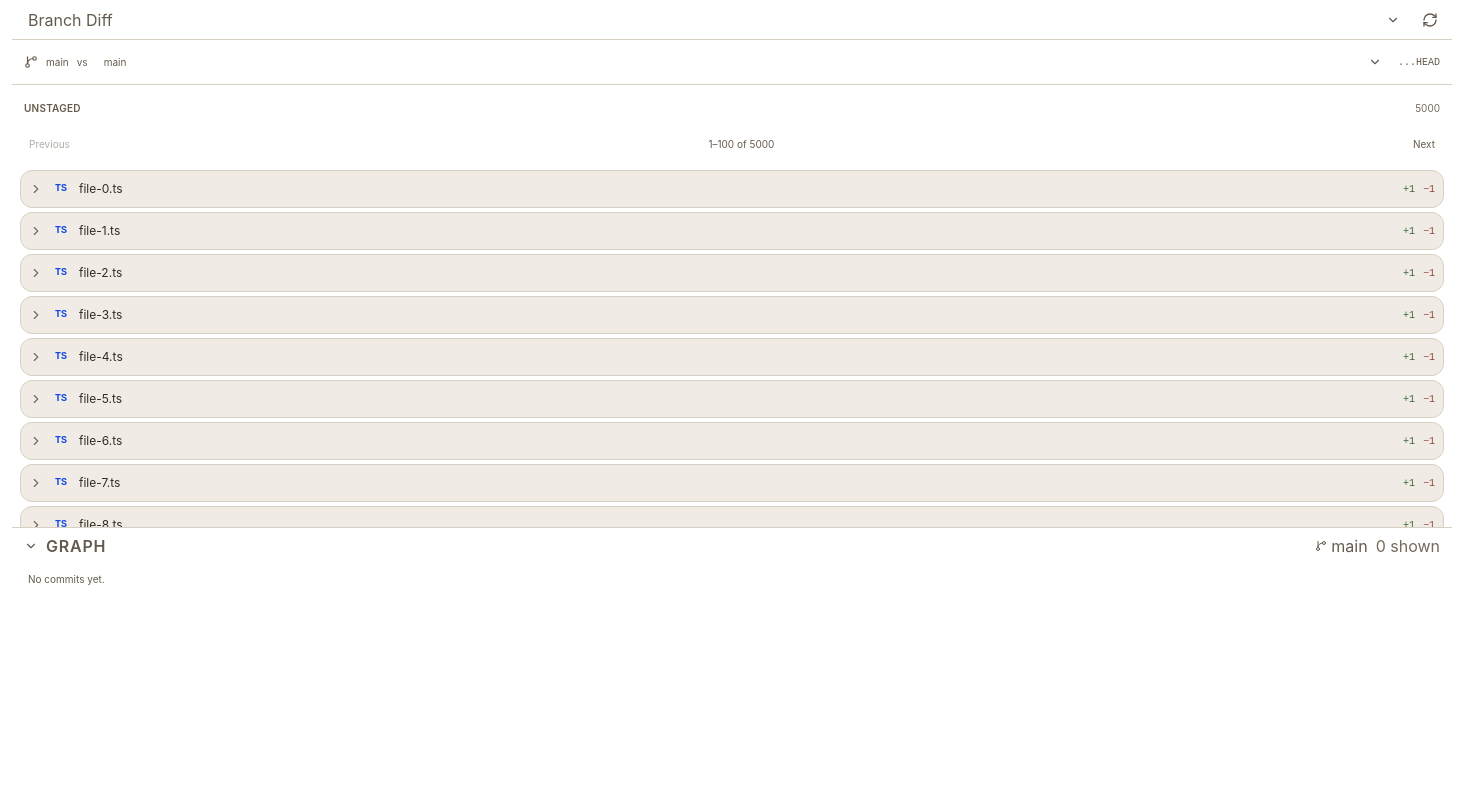
bounds a 5000-file list and lets files on later pages open
expect the text "file-0.ts" is shown: met, box [79,181,123,196]
expect the text "file-100.ts" is not shown: met
Step 1. Click the button "Next" → click(1424, 144), box [1404,130,1444,158]
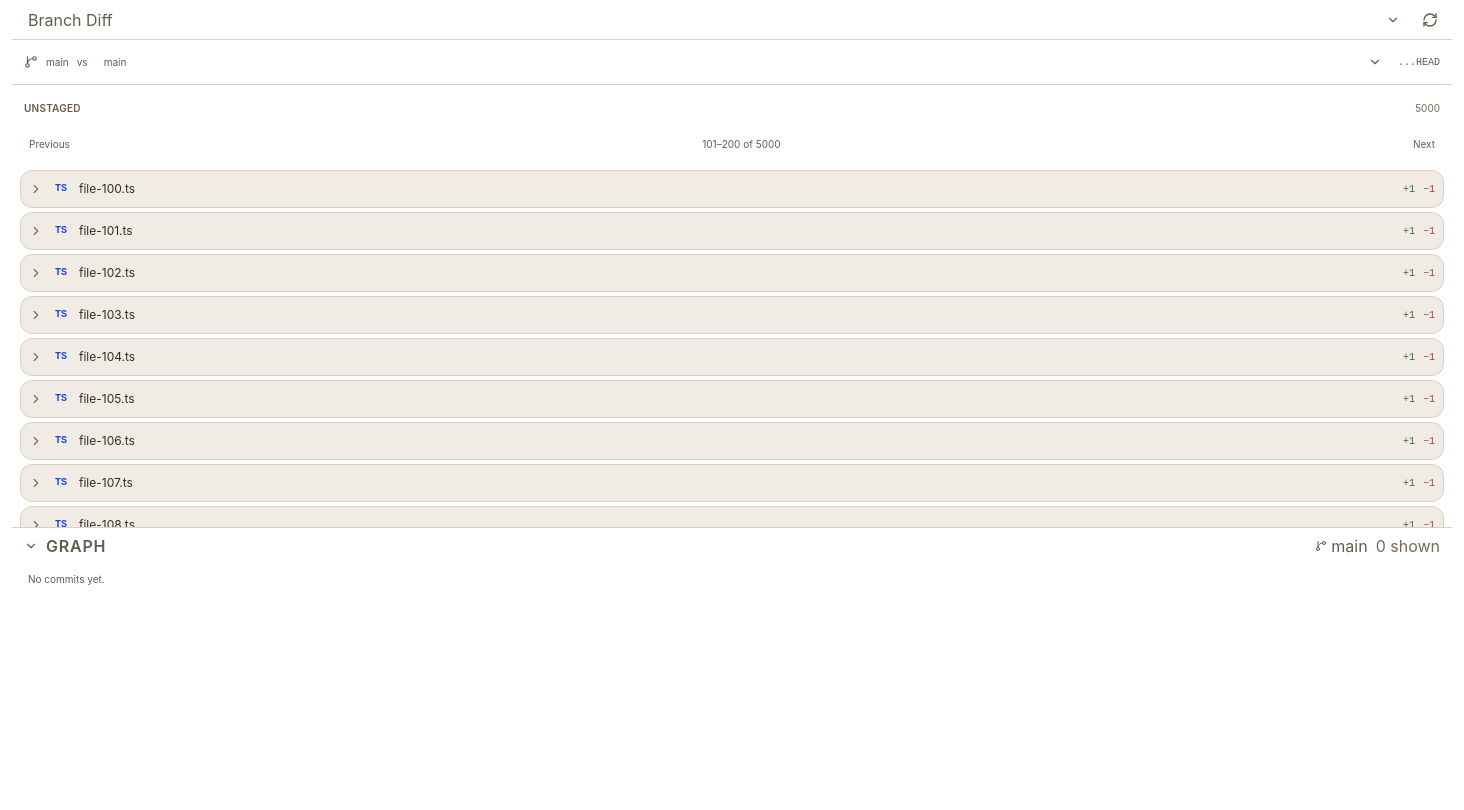
expect the button "file-0.ts" is gone: met
Step 2. Click the button "TS file-100.ts +1 −1" → click(107, 188), box [21,171,1443,207]
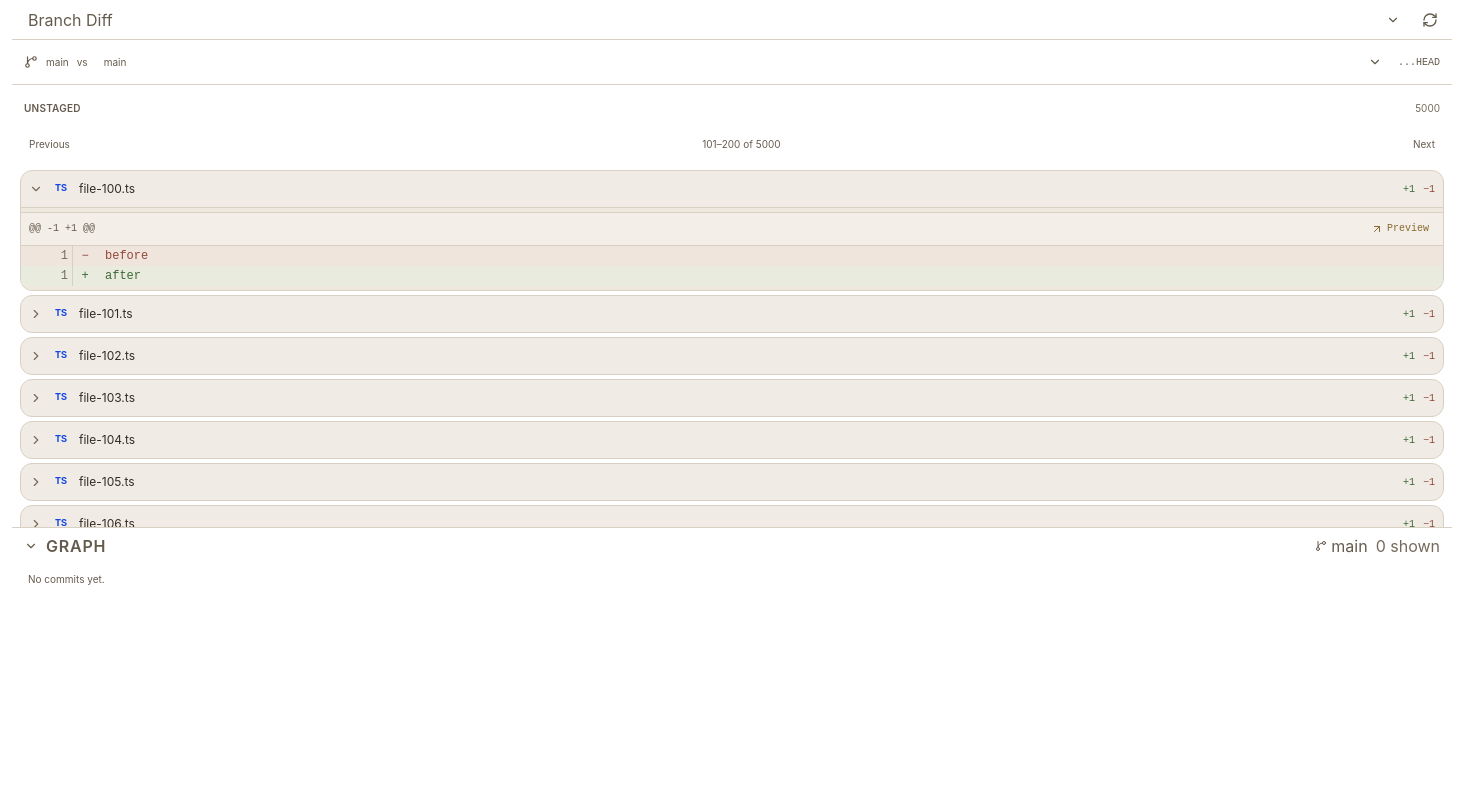
expect the text "after" is shown: met, box [105,269,141,283]
expect the number of buttons "TS file-100.ts +1 −1" is 100: met
